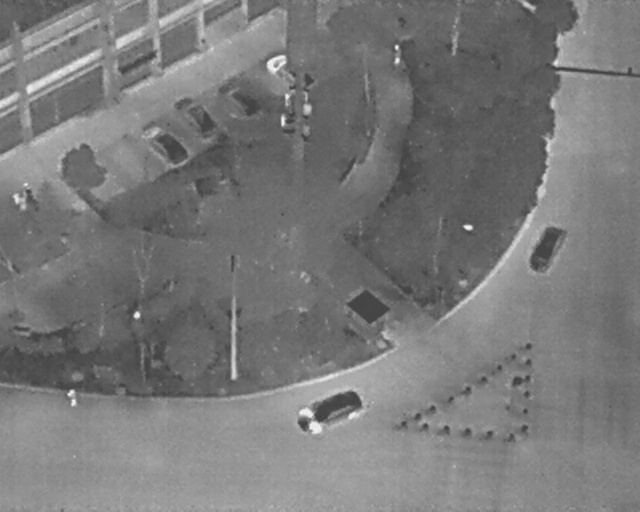Car: (289, 380, 368, 442), (257, 41, 321, 105), (135, 113, 194, 175), (167, 86, 223, 144), (212, 69, 266, 125), (523, 218, 570, 279)
Person: (65, 387, 80, 408), (393, 42, 401, 66), (10, 193, 21, 207), (19, 194, 27, 211)
